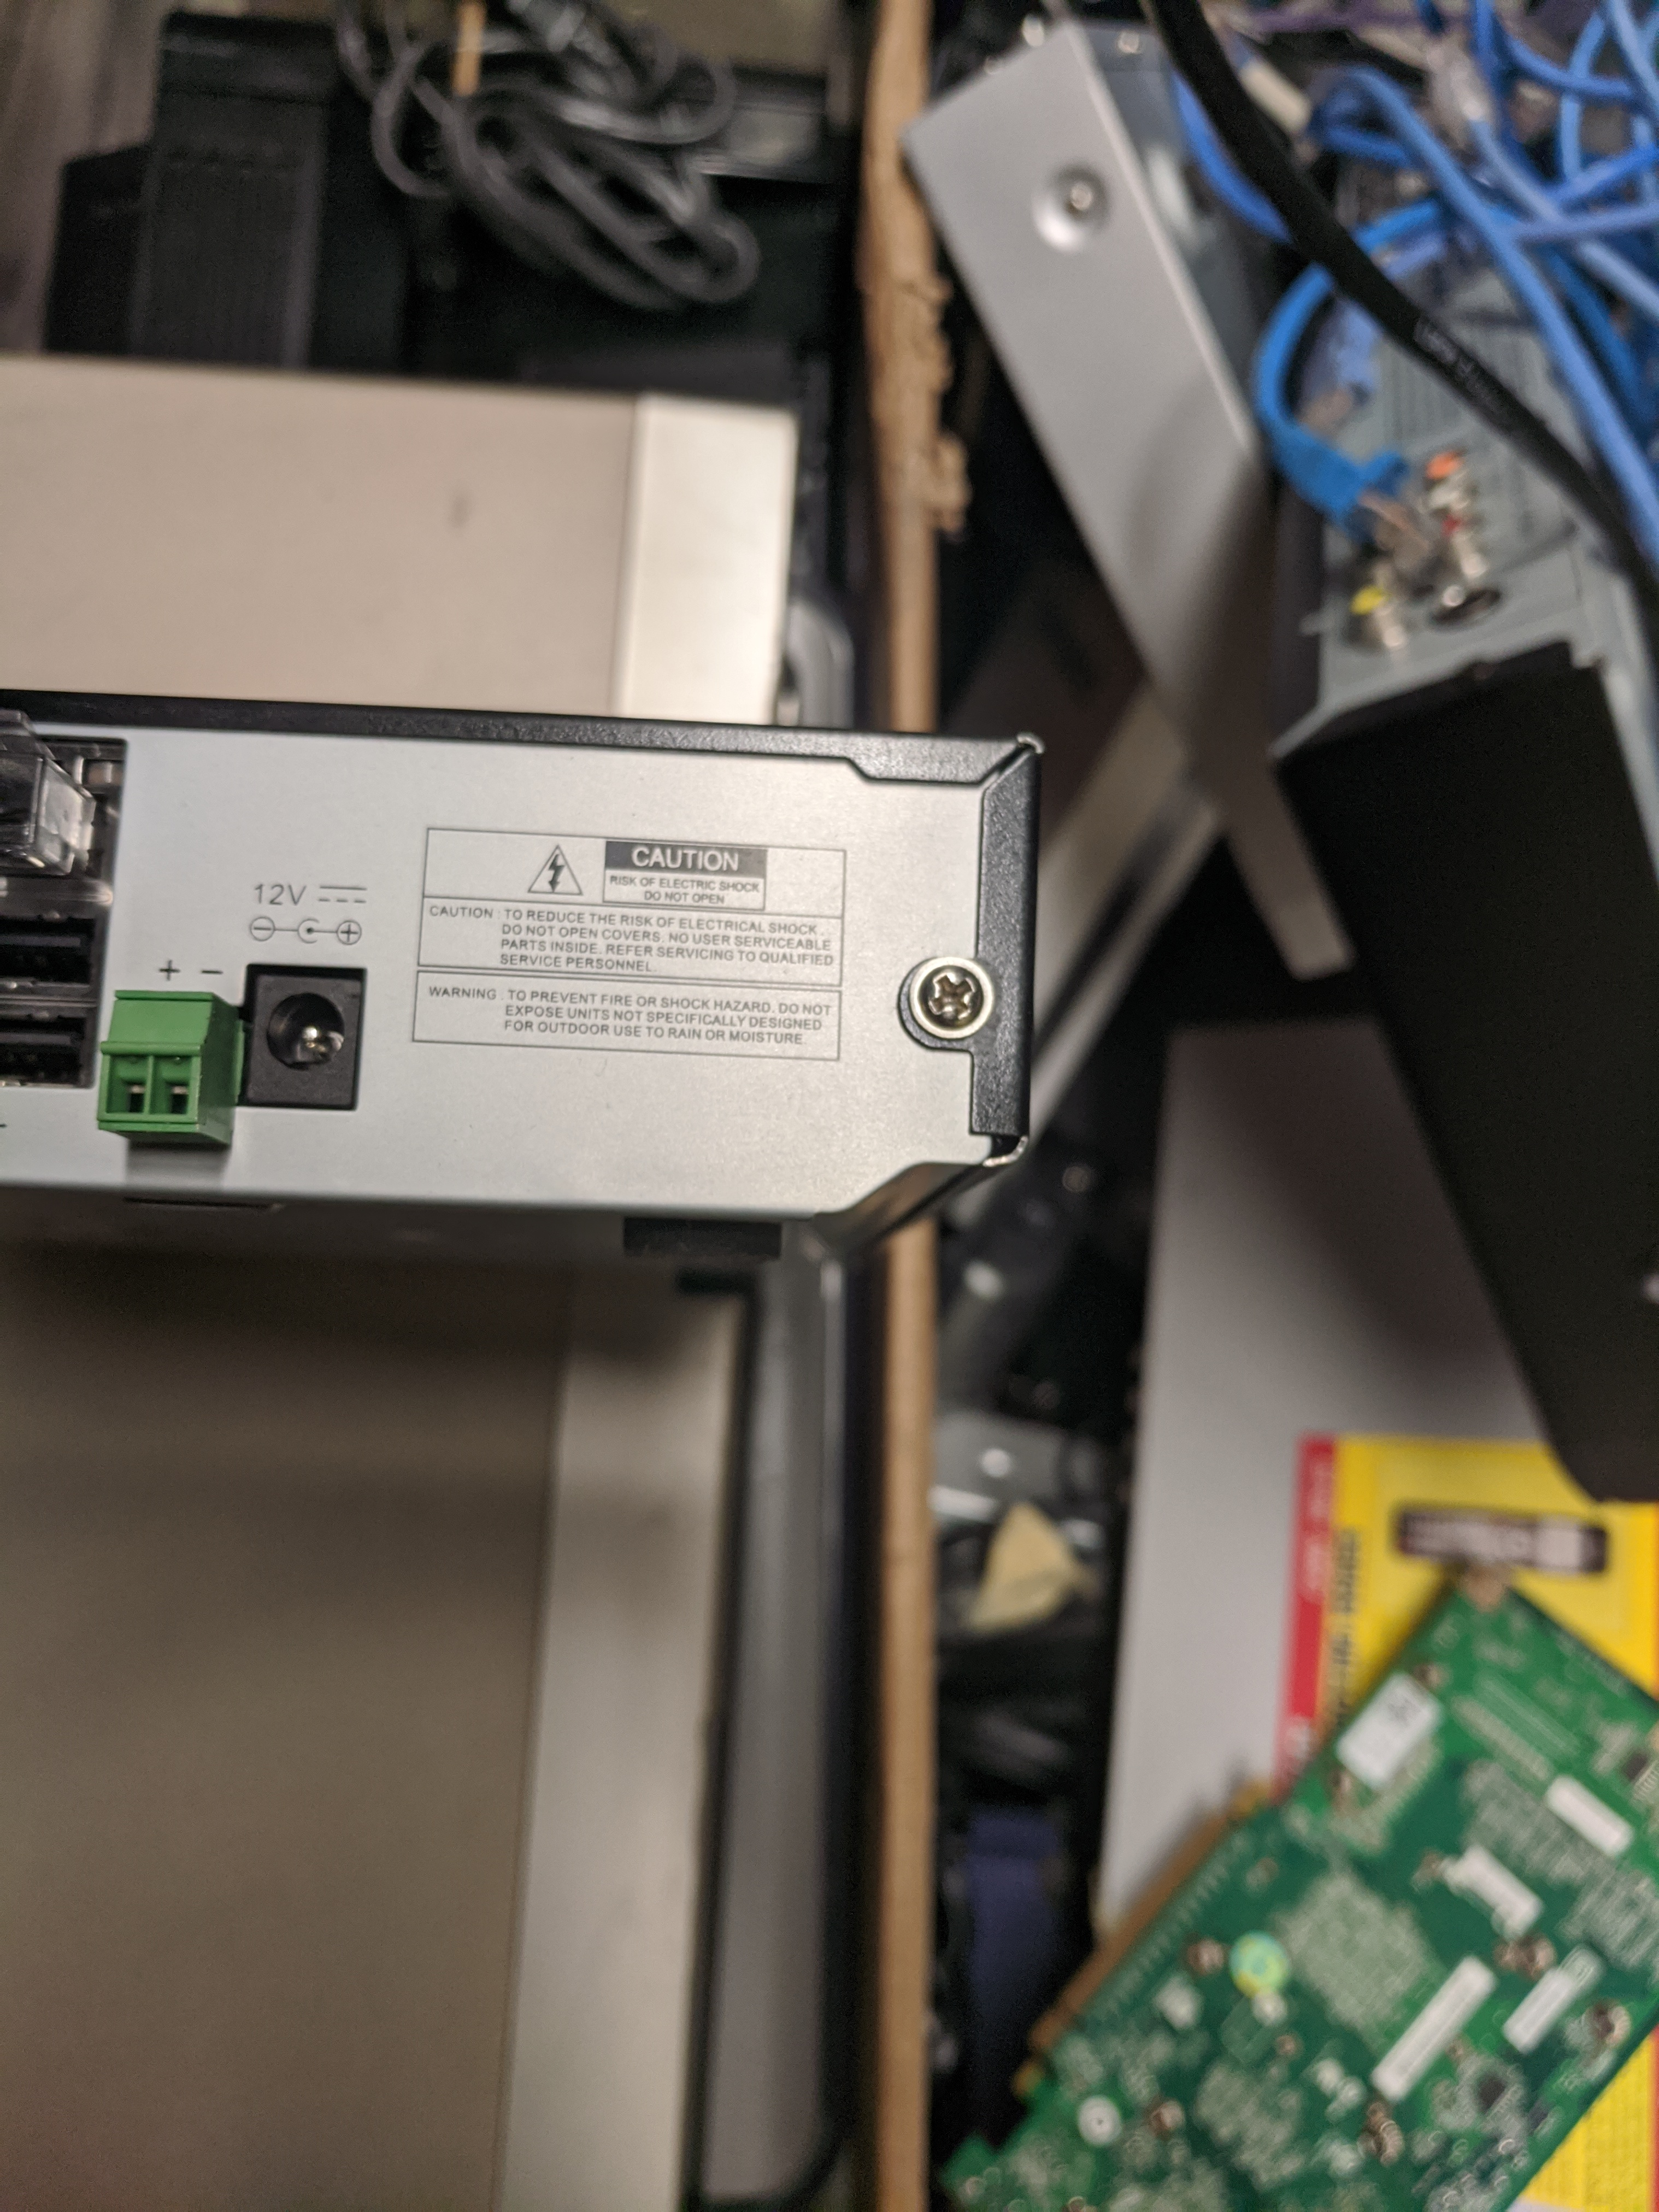cross_recessed_screw: (904, 951, 983, 1022)
